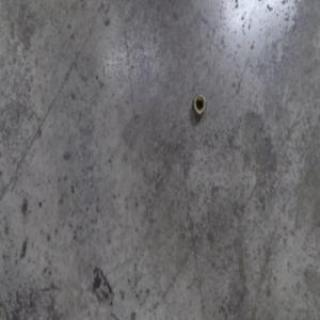Nuttrack_idkeyframe: (192, 91, 205, 116)
